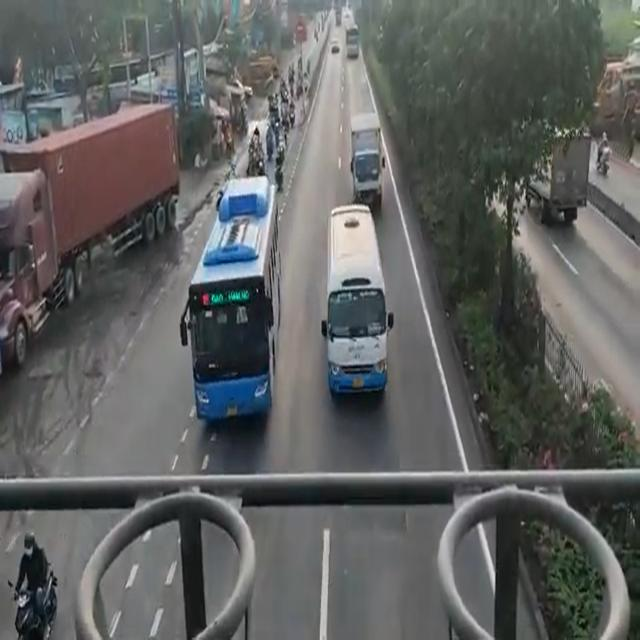bus: (191, 178, 273, 434), (324, 200, 387, 402)
motor: (15, 583, 56, 640)
truck: (0, 99, 176, 348), (347, 119, 386, 206)
